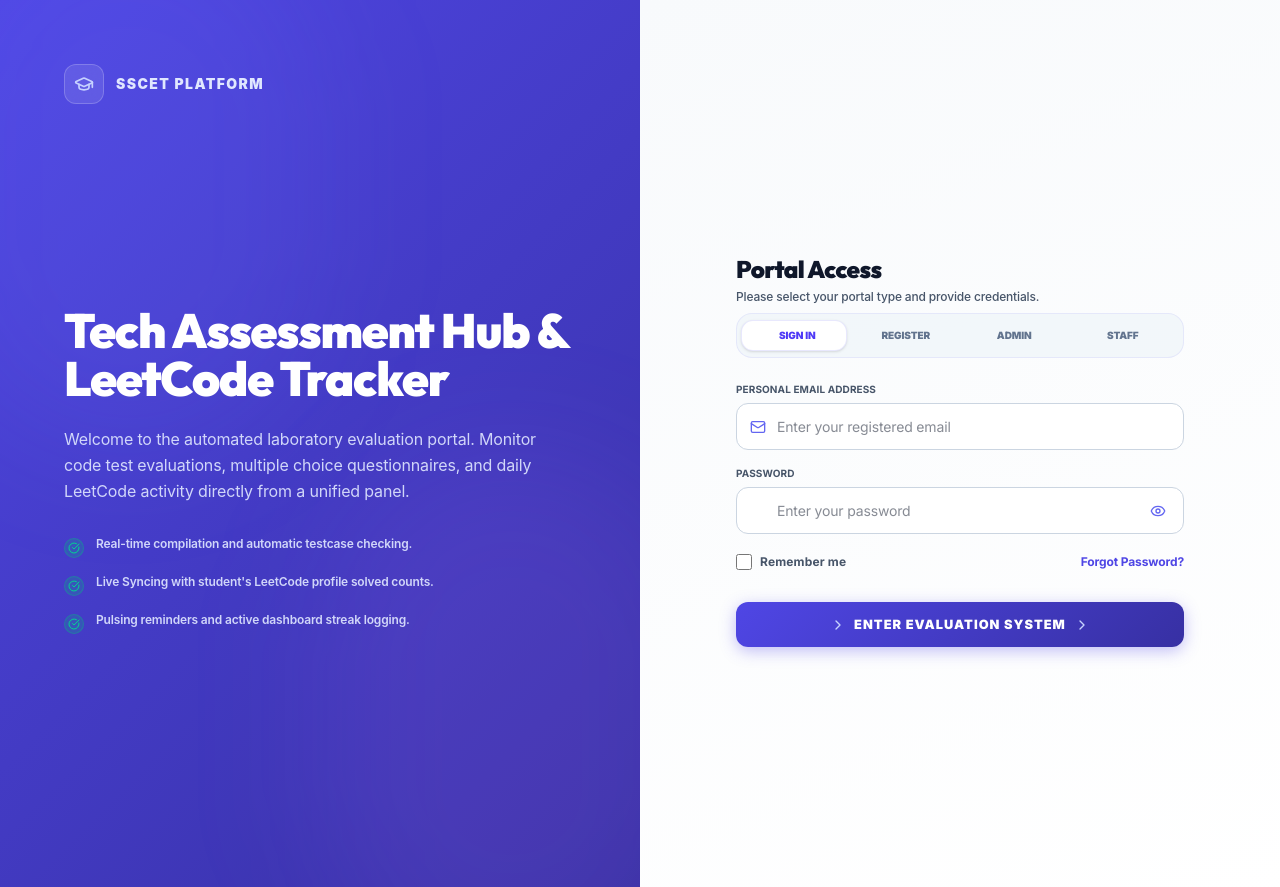
App — Router / Page Navigation › navigates to Admin Panel when admin logs in successfully
// Switch to Admin tab
Click the button "Admin": click(1014, 336) [960,320,1068,351]
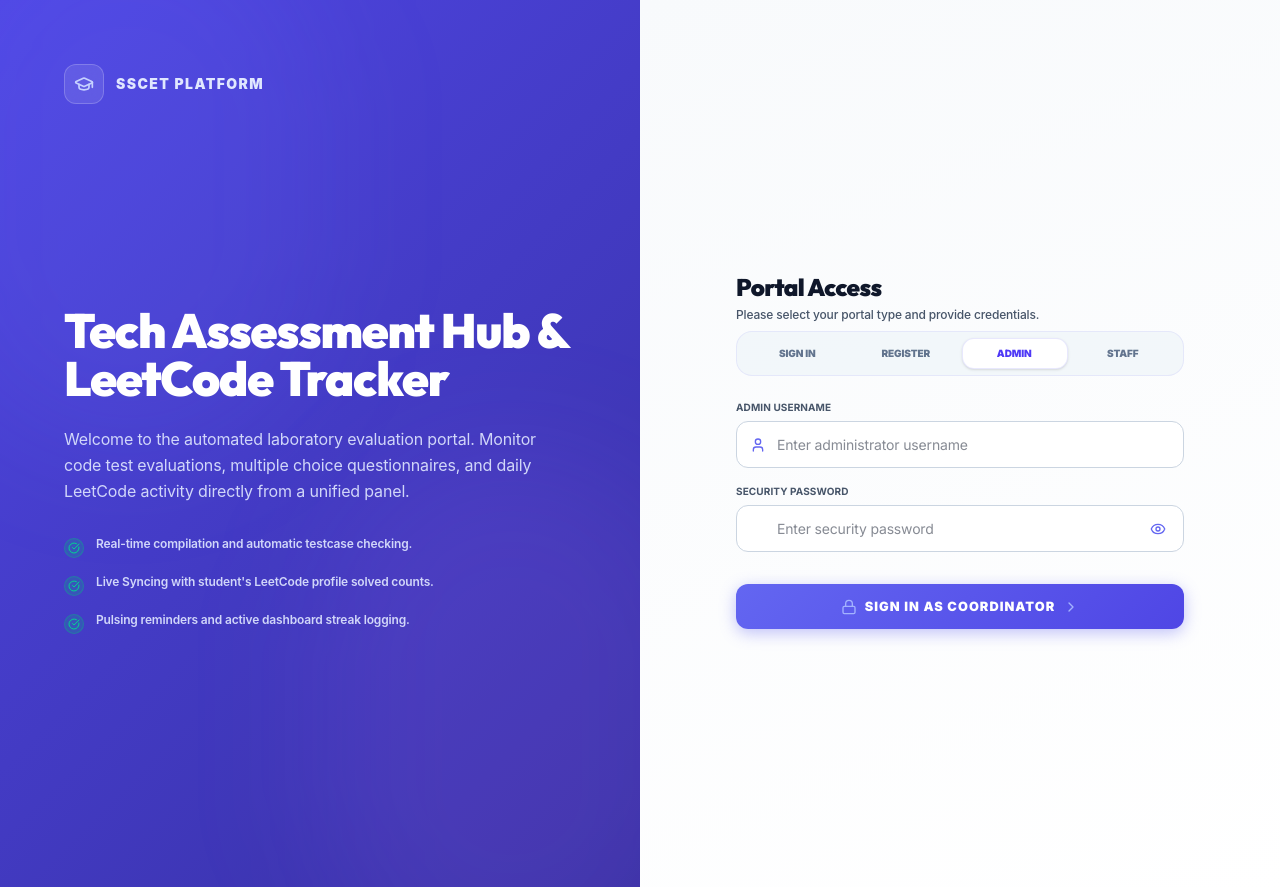
// Fill admin form
In the field with placeholder "Enter administrator username": (960, 445) [736,421,1184,468], type "sscet"
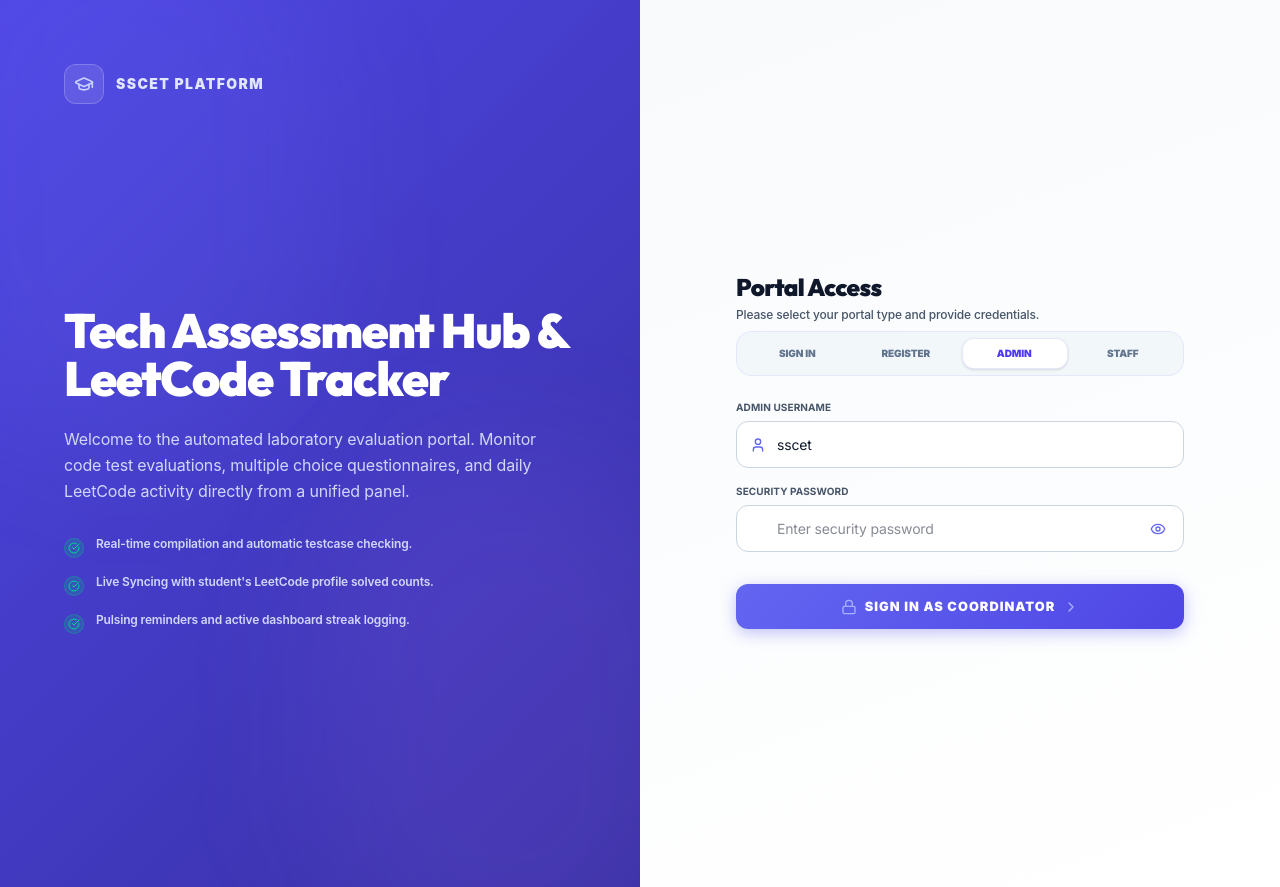
In the password field with placeholder "Enter security password": (960, 529) [736,505,1184,552], type "adminsscet@2026"
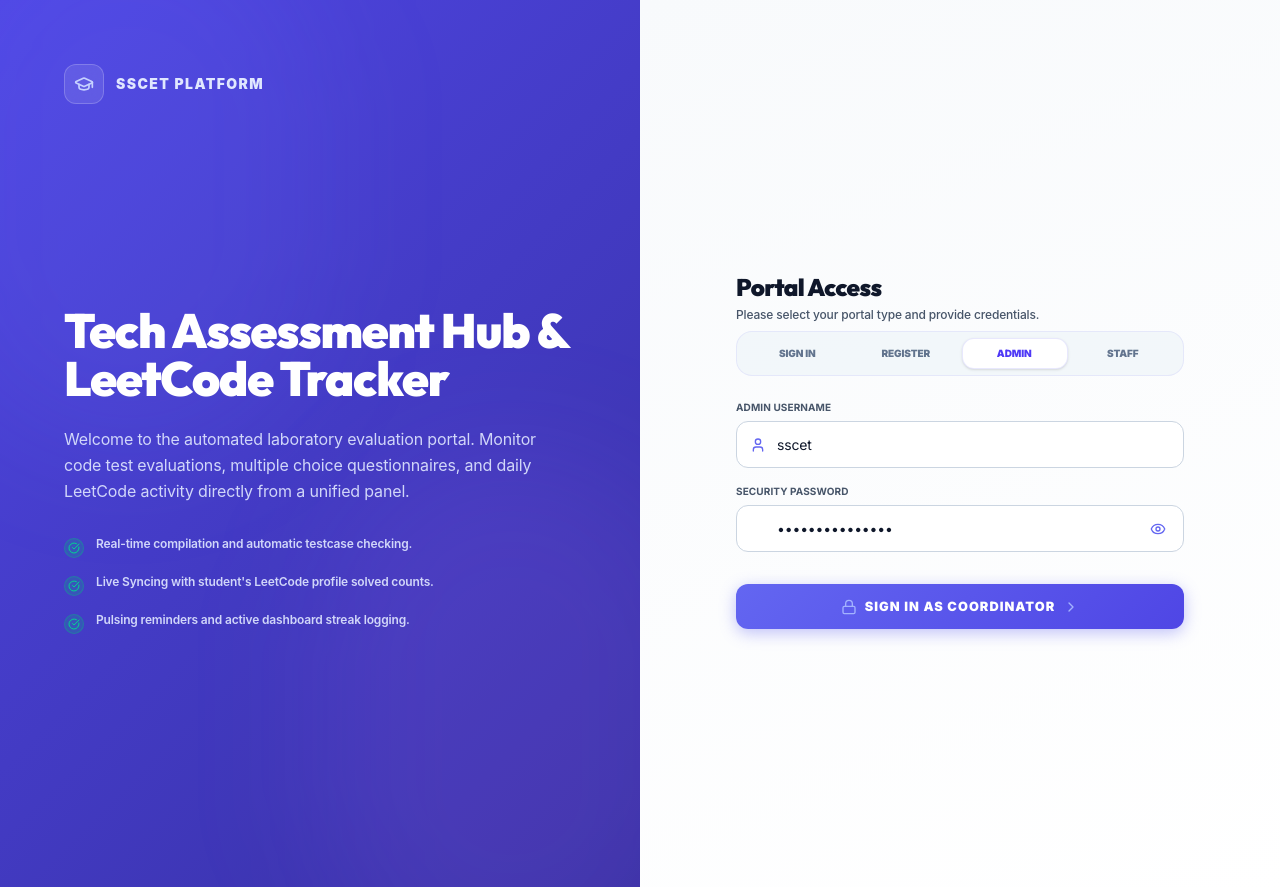
Submit the form, box [736,400,1184,629]
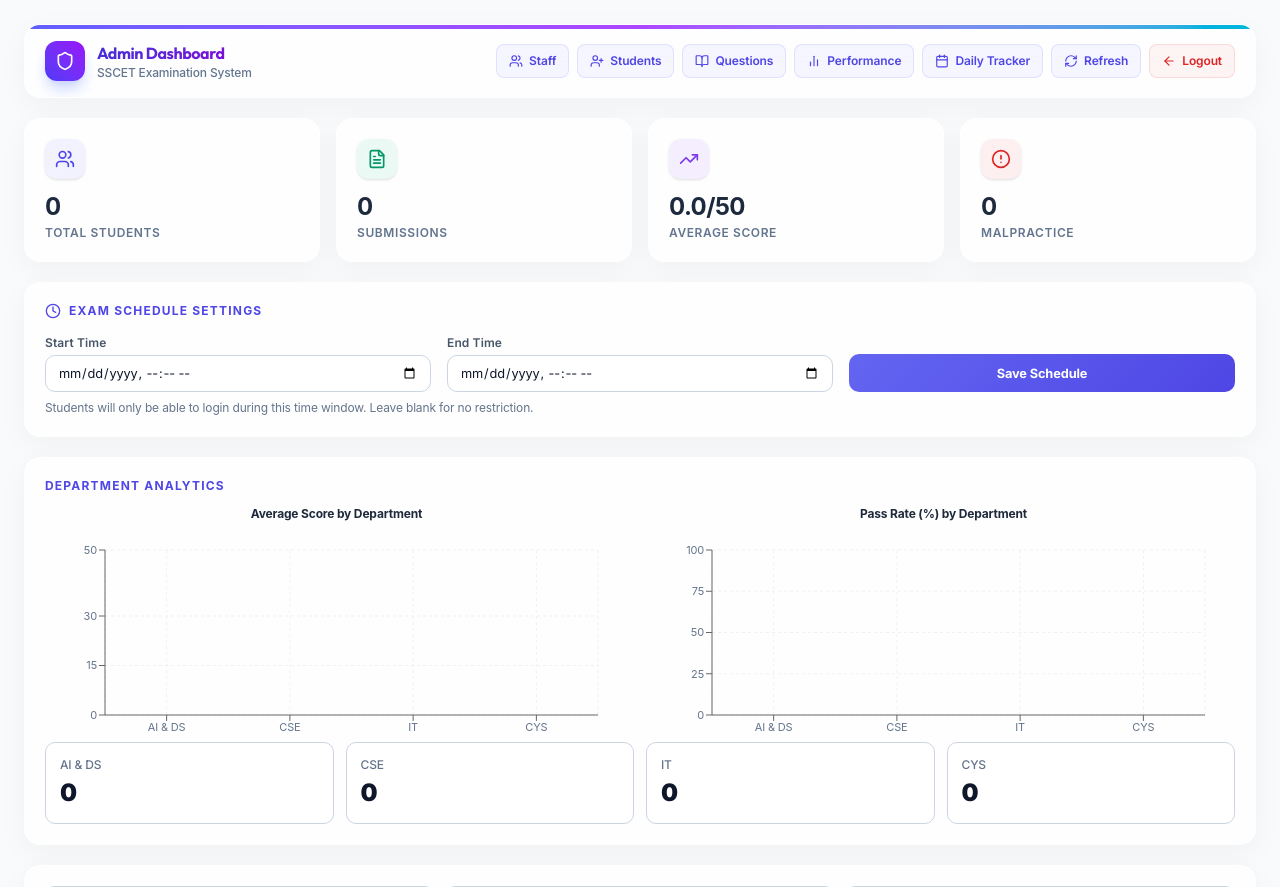
Expected: the heading "Admin Dashboard" is shown, [97,41,252,65]
